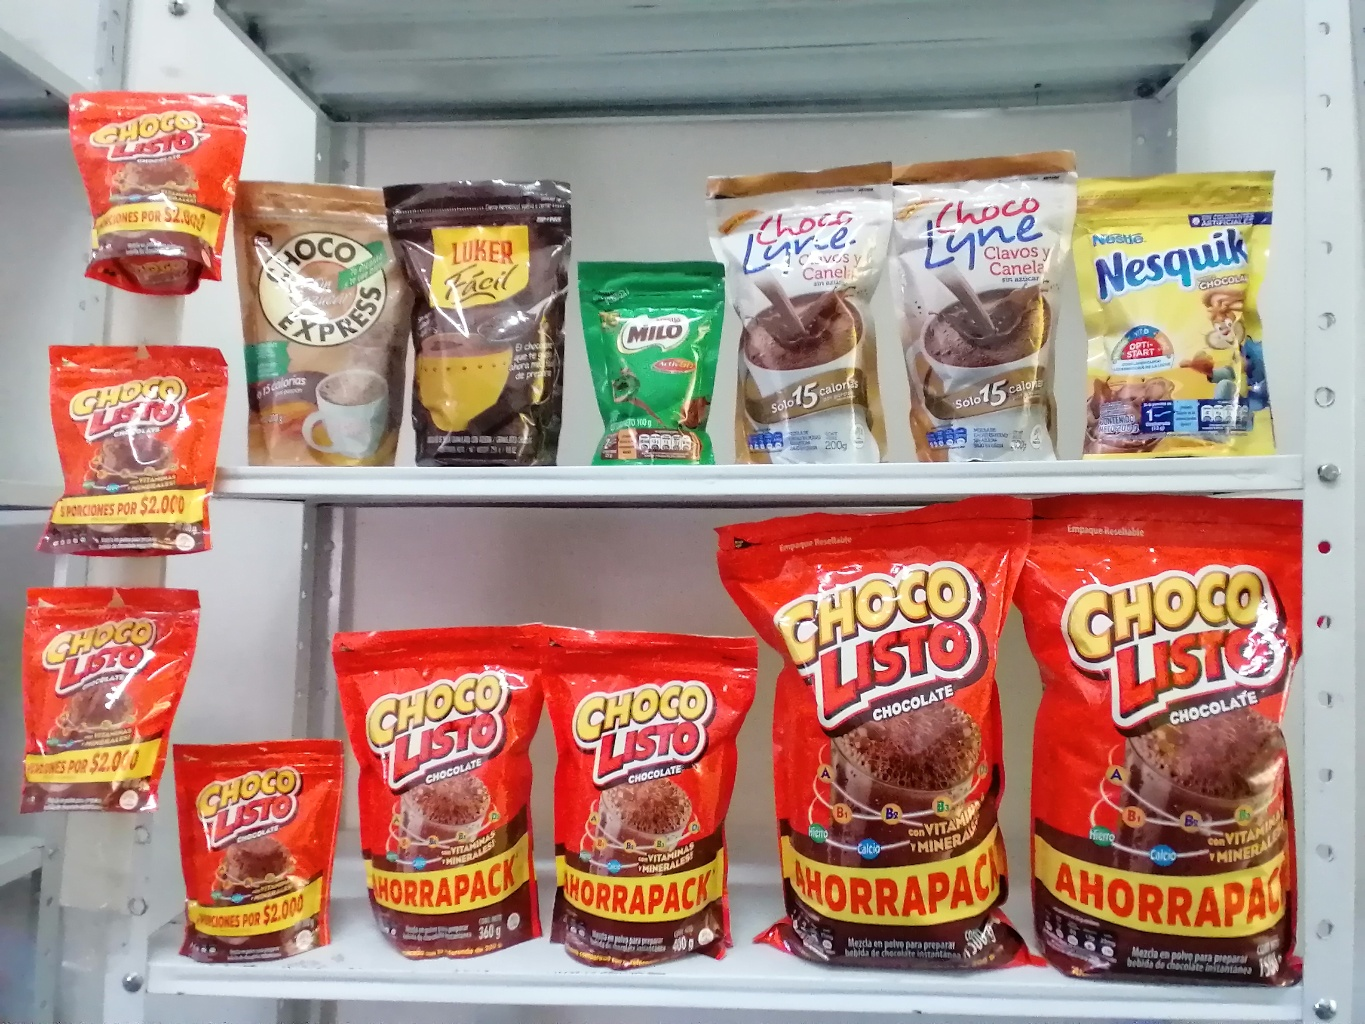COL0170103DYP1,500: (1027, 496, 1311, 992)
COL0170103DYP10000: (67, 88, 251, 301)
COL0170103DYP36000: (328, 623, 548, 961)
COL0170103DYP40000: (540, 620, 760, 971)
COL0170203DYP10000: (575, 260, 733, 464)
COL0170303DYP20000: (1082, 171, 1283, 458)
